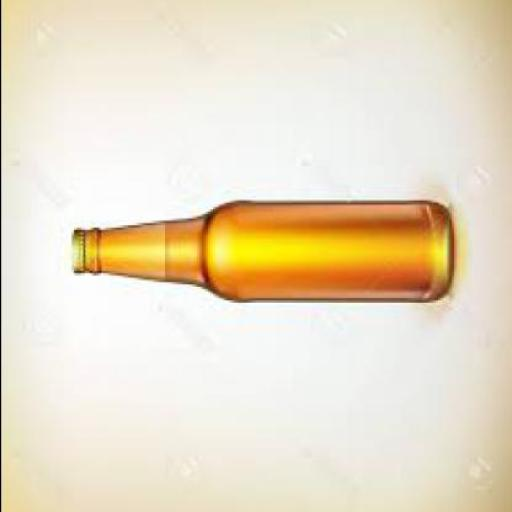glass: (80, 202, 453, 304)
metal: (68, 232, 82, 278)
